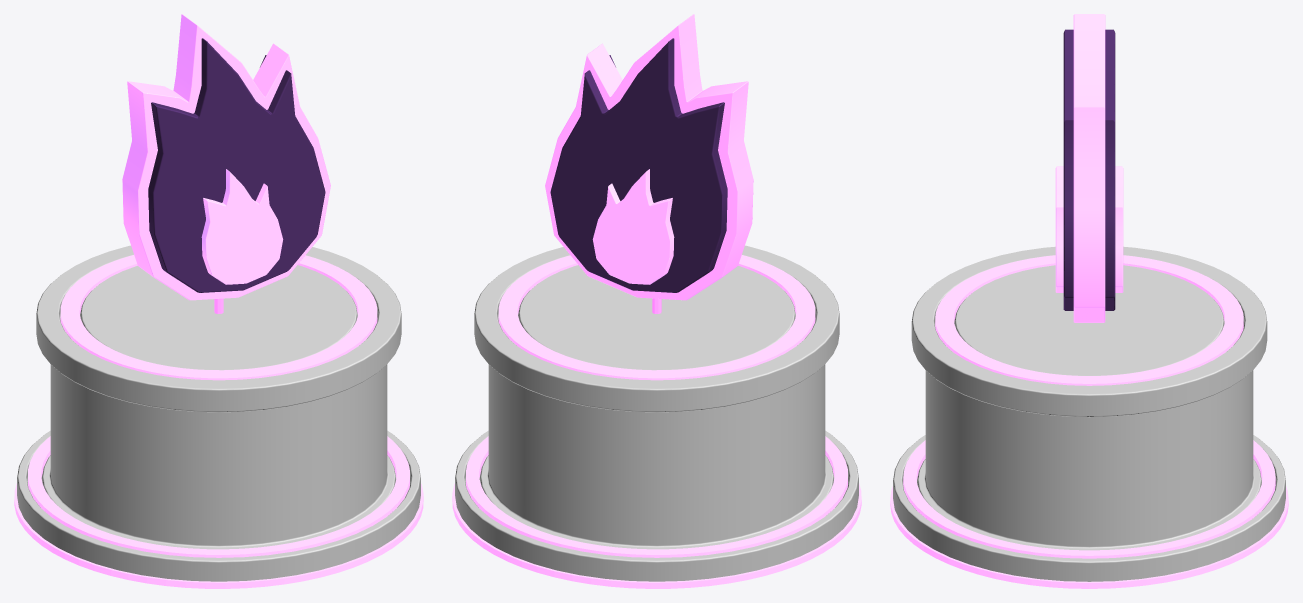
File: Lobby_PED_Shadow.fbx
The picture shows the model from 3 angles, left to right: view 1: azimuth 30°, elevation 25°; view 2: azimuth 150°, elevation 25°; view 3: azimuth 270°, elevation 25°; orthographic projection. The views are drawn at different scales.
Parts seen in each view (by area): view 1: PedestalMarble__Shadow, Glyph_ShadowBody__Shadow, Glyph_ShadowRim__ShadowRim, PedNeon_Shadow__Shadow_TopNeon, Glyph_ShadowCore__ShadowCore, PedNeon_Shadow__Shadow_BaseNeon, PedNeon_Shadow__Shadow_BaseNeonEdge; view 2: PedestalMarble__Shadow, Glyph_ShadowBody__Shadow, Glyph_ShadowRim__ShadowRim, PedNeon_Shadow__Shadow_TopNeon, Glyph_ShadowCore__ShadowCore, PedNeon_Shadow__Shadow_BaseNeon, PedNeon_Shadow__Shadow_BaseNeonEdge; view 3: PedestalMarble__Shadow, Glyph_ShadowRim__ShadowRim, PedNeon_Shadow__Shadow_TopNeon, Glyph_ShadowBody__Shadow, PedNeon_Shadow__Shadow_BaseNeon, PedNeon_Shadow__Shadow_BaseNeonEdge, Glyph_ShadowCore__ShadowCore.
Part boxes in pixels (x1,y1,x2,y2): PedestalMarble__Shadow: (17,245,420,581); Glyph_ShadowBody__Shadow: (148,38,325,292); Glyph_ShadowRim__ShadowRim: (122,14,330,300); PedNeon_Shadow__Shadow_TopNeon: (60,255,377,380); Glyph_ShadowCore__ShadowCore: (201,169,283,284); PedNeon_Shadow__Shadow_BaseNeon: (28,436,409,557); PedNeon_Shadow__Shadow_BaseNeonEdge: (14,483,423,588); PedestalMarble__Shadow: (455,245,858,581); Glyph_ShadowBody__Shadow: (550,38,727,292); Glyph_ShadowRim__ShadowRim: (545,14,753,300); PedNeon_Shadow__Shadow_TopNeon: (498,255,815,380); Glyph_ShadowCore__ShadowCore: (592,169,674,284); PedNeon_Shadow__Shadow_BaseNeon: (466,436,847,557); PedNeon_Shadow__Shadow_BaseNeonEdge: (452,483,861,588); PedestalMarble__Shadow: (893,246,1285,581); Glyph_ShadowRim__ShadowRim: (1073,14,1105,322); PedNeon_Shadow__Shadow_TopNeon: (935,255,1243,385); Glyph_ShadowBody__Shadow: (1063,29,1115,310); PedNeon_Shadow__Shadow_BaseNeon: (903,440,1275,558); PedNeon_Shadow__Shadow_BaseNeonEdge: (890,486,1288,588); Glyph_ShadowCore__ShadowCore: (1055,166,1123,292).
Size of the model in its own units: 4.26 by 5.64 by 4.26.
